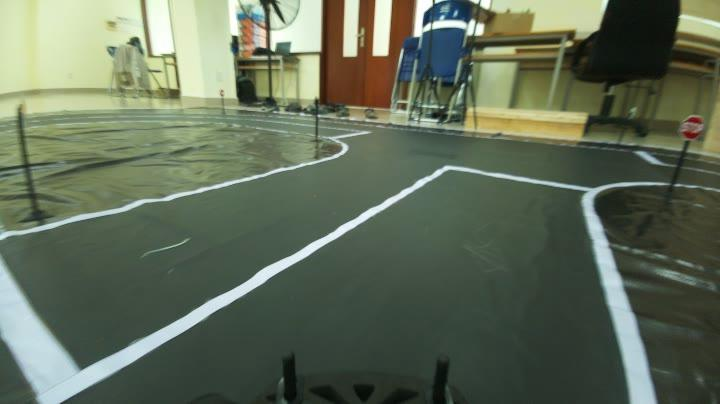stop: (675, 100, 710, 148)
